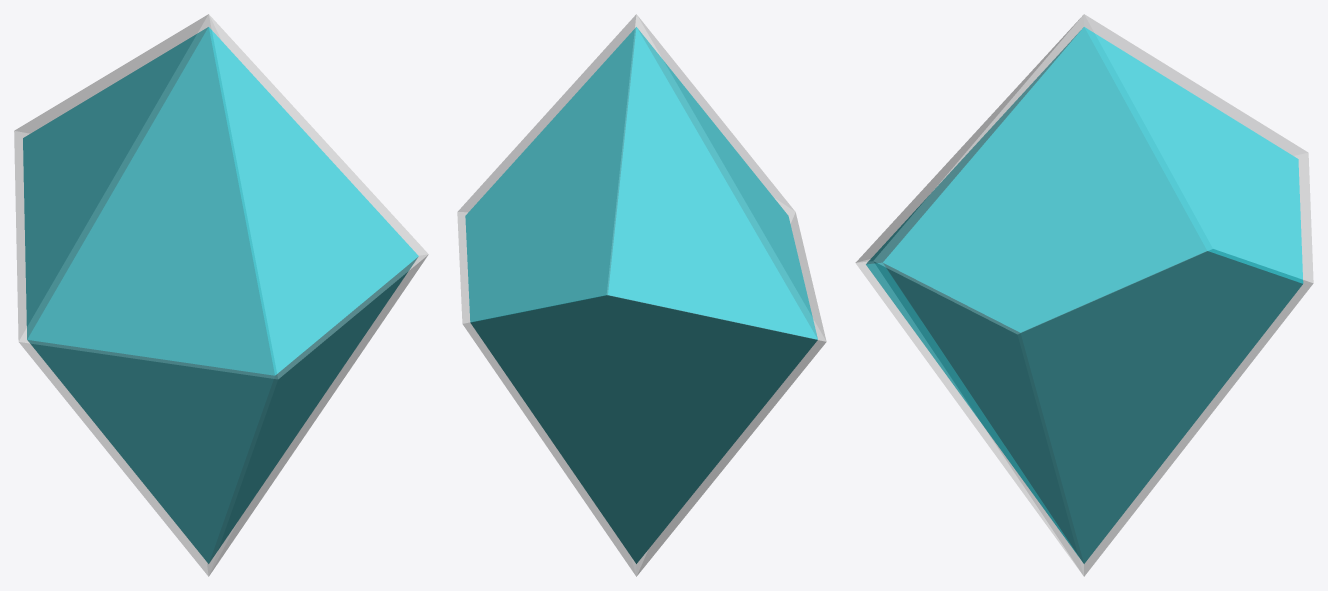
Rendered from GEMA SLIME.fbx.
3 renders of one model, left to right at view 1: azimuth 30°, elevation 25°; view 2: azimuth 150°, elevation 25°; view 3: azimuth 270°, elevation 25°, orthographic.
Visible parts, largest first — view 1: GEM 2, GEM; view 2: GEM 2, GEM; view 3: GEM 2, GEM.
Part boxes in pixels (box(x1,y1,x2,y2)): GEM 2: box(14, 14, 428, 576); GEM: box(23, 27, 418, 563); GEM 2: box(457, 14, 826, 576); GEM: box(465, 27, 817, 563); GEM 2: box(855, 14, 1313, 576); GEM: box(866, 27, 1303, 563).
Size of the model in its own units: 178 by 296 by 219.
